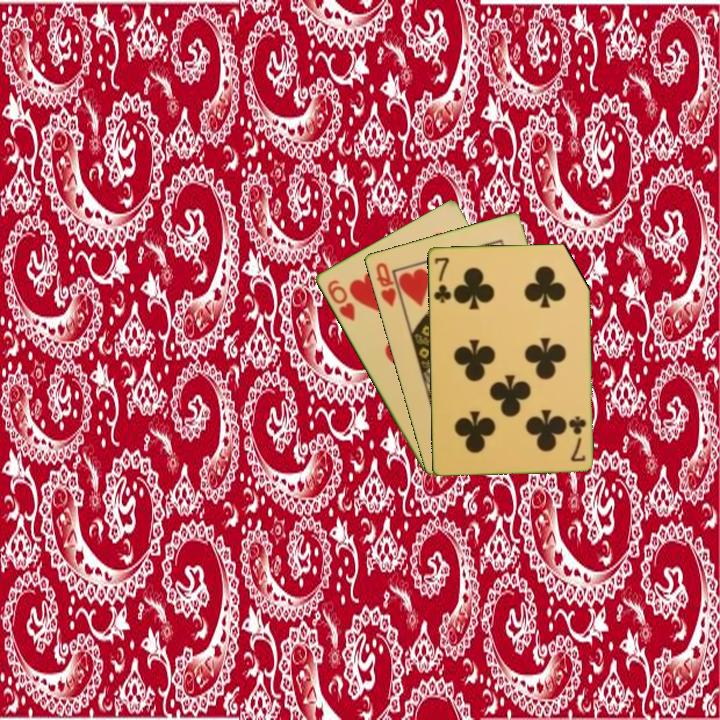6h: (323, 276, 358, 324)
7c: (430, 253, 454, 305), (566, 412, 588, 464)
Qh: (372, 259, 404, 310)
